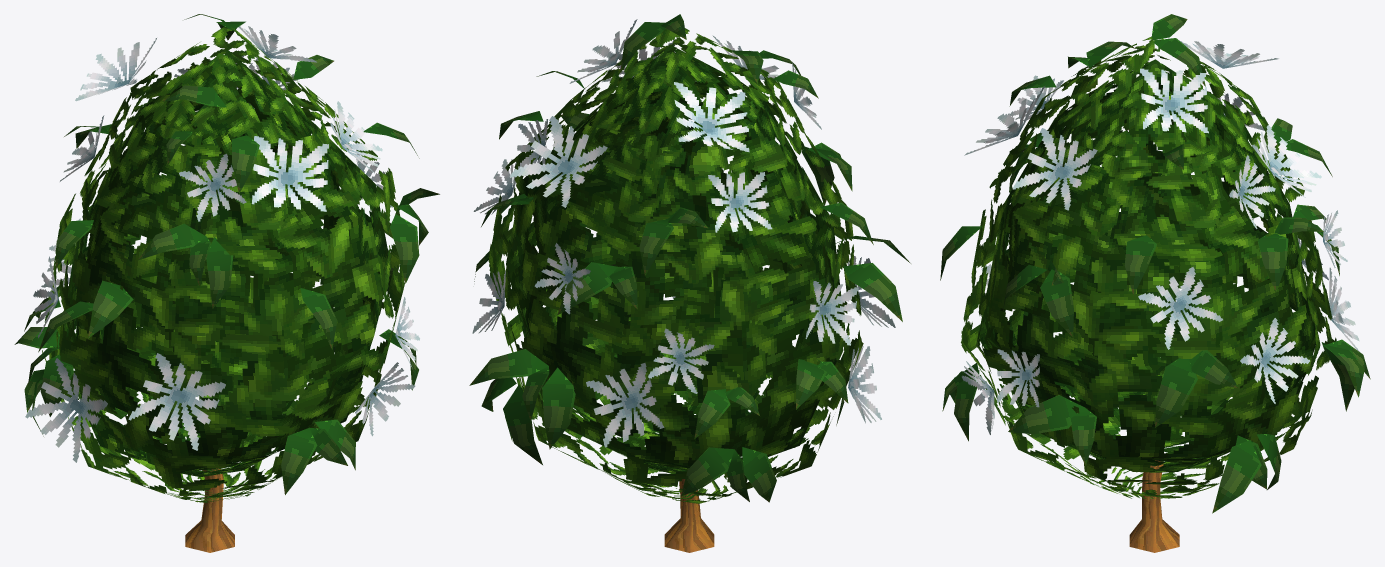
Rendered from INST_HTOWN_SHRUB2.obj.
3 renders of one model, left to right at view 1: azimuth 30°, elevation 25°; view 2: azimuth 150°, elevation 25°; view 3: azimuth 270°, elevation 25°, orthographic.
Visible parts, largest first — view 1: Shrub2; view 2: Shrub2; view 3: Shrub2.
Boxes of the visible parts, x1,y1,x2,y2 form: Shrub2: [14, 14, 439, 552]; Shrub2: [469, 14, 910, 552]; Shrub2: [940, 14, 1370, 552].
Bounding box in the file's own units: 87.75 × 112 × 82.99.
